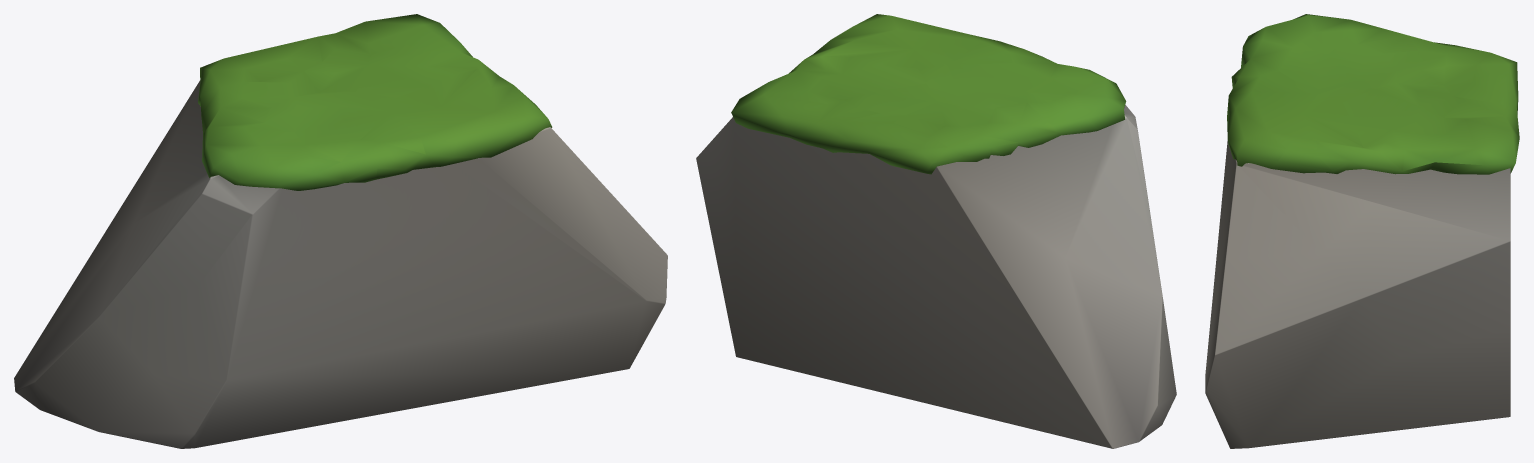
Rendered from glade_pebble_boulder_d_lod1.glb.
The picture shows the model from 3 angles, left to right: view 1: azimuth 30°, elevation 25°; view 2: azimuth 150°, elevation 25°; view 3: azimuth 270°, elevation 25°; orthographic projection. The views are drawn at different scales.
Visible parts, largest first — view 1: glade_pebble_boulder_d.001, moss.001; view 2: glade_pebble_boulder_d.001, moss.001; view 3: glade_pebble_boulder_d.001, moss.001.
Part boxes in pixels (<box>): glade_pebble_boulder_d.001: <box>14,80,667,448</box>; moss.001: <box>198,14,552,190</box>; glade_pebble_boulder_d.001: <box>696,105,1176,448</box>; moss.001: <box>731,14,1126,174</box>; glade_pebble_boulder_d.001: <box>1205,140,1510,448</box>; moss.001: <box>1227,14,1519,174</box>.
Size of the model in its own units: 6.68 by 3.41 by 3.65.
